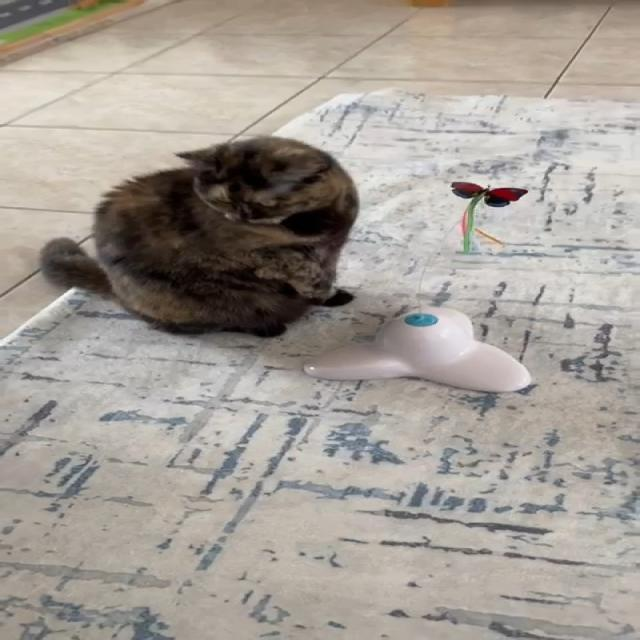authorized: (37, 134, 359, 338)
